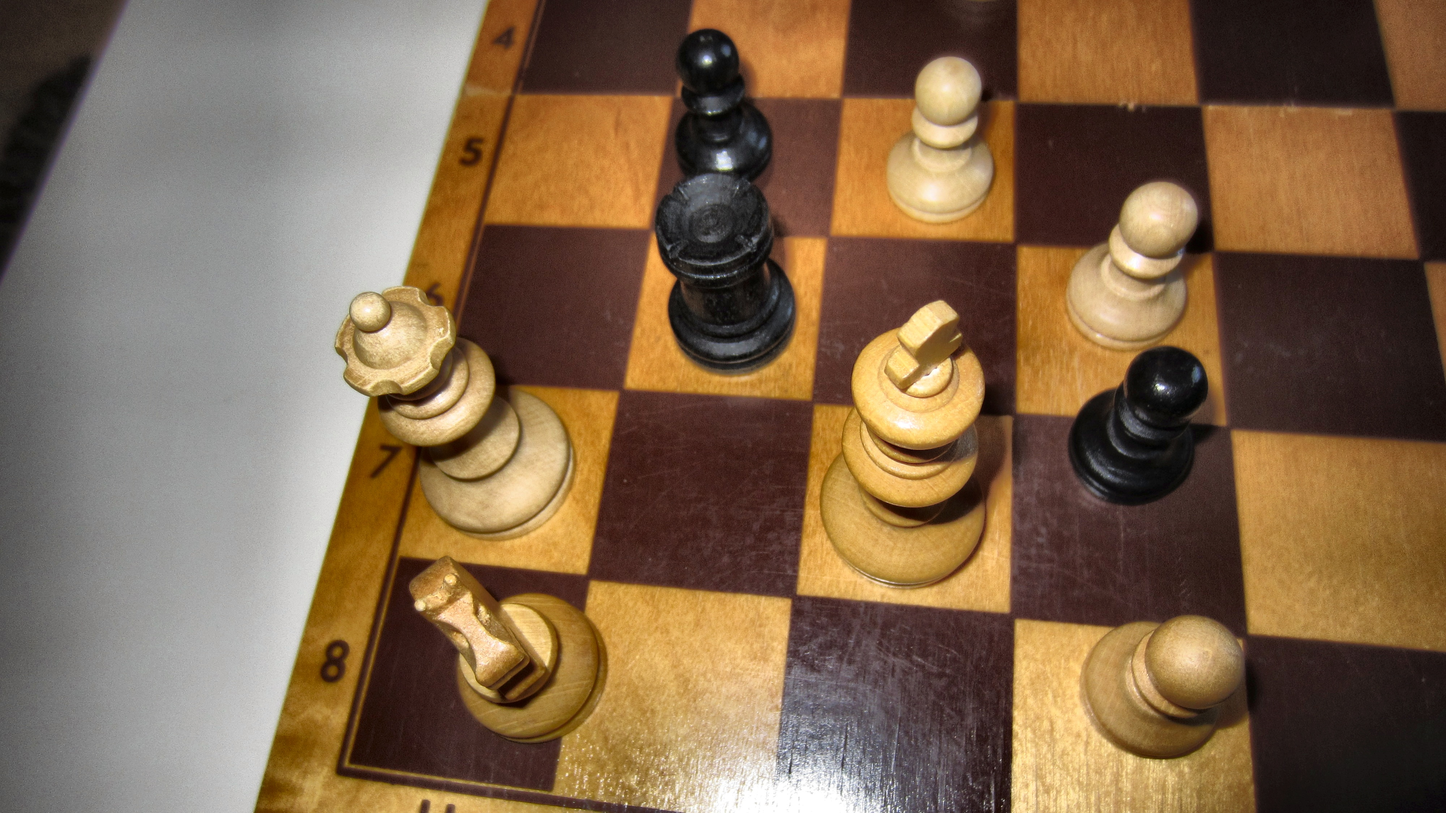black-pawn: (1066, 344, 1210, 505), (673, 24, 774, 180)
black-rook: (652, 172, 804, 376)
white-king: (819, 297, 991, 591)
white-knight: (405, 554, 611, 746)
white-pawn: (1079, 611, 1248, 762), (1065, 179, 1199, 349), (886, 55, 996, 224)
white-queen: (330, 284, 580, 543)
